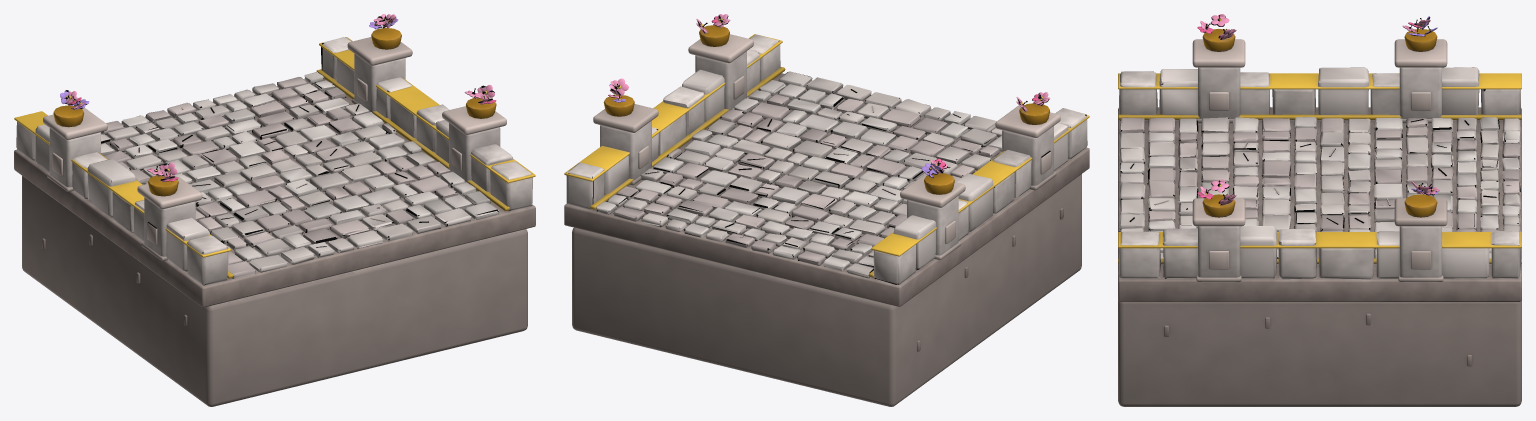
Rendered from hs_bridge_segment.glb.
3 views of the same model, side by side, from view 1: azimuth 30°, elevation 25°; view 2: azimuth 150°, elevation 25°; view 3: azimuth 270°, elevation 25° (orthographic). The views are drawn at different scales.
Parts seen in each view (by area): view 1: hs_bridge_segment; view 2: hs_bridge_segment; view 3: hs_bridge_segment.
Part boxes in pixels (left/top/right/bottom): hs_bridge_segment: left=14, top=14, right=535, bottom=406; hs_bridge_segment: left=564, top=14, right=1089, bottom=406; hs_bridge_segment: left=1118, top=14, right=1521, bottom=406.
Bounding box in the file's own units: 10.6 × 6.21 × 10.
Materials: 12 (12 with a texture image).
